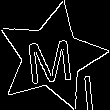M_N: (25, 29, 77, 84)
